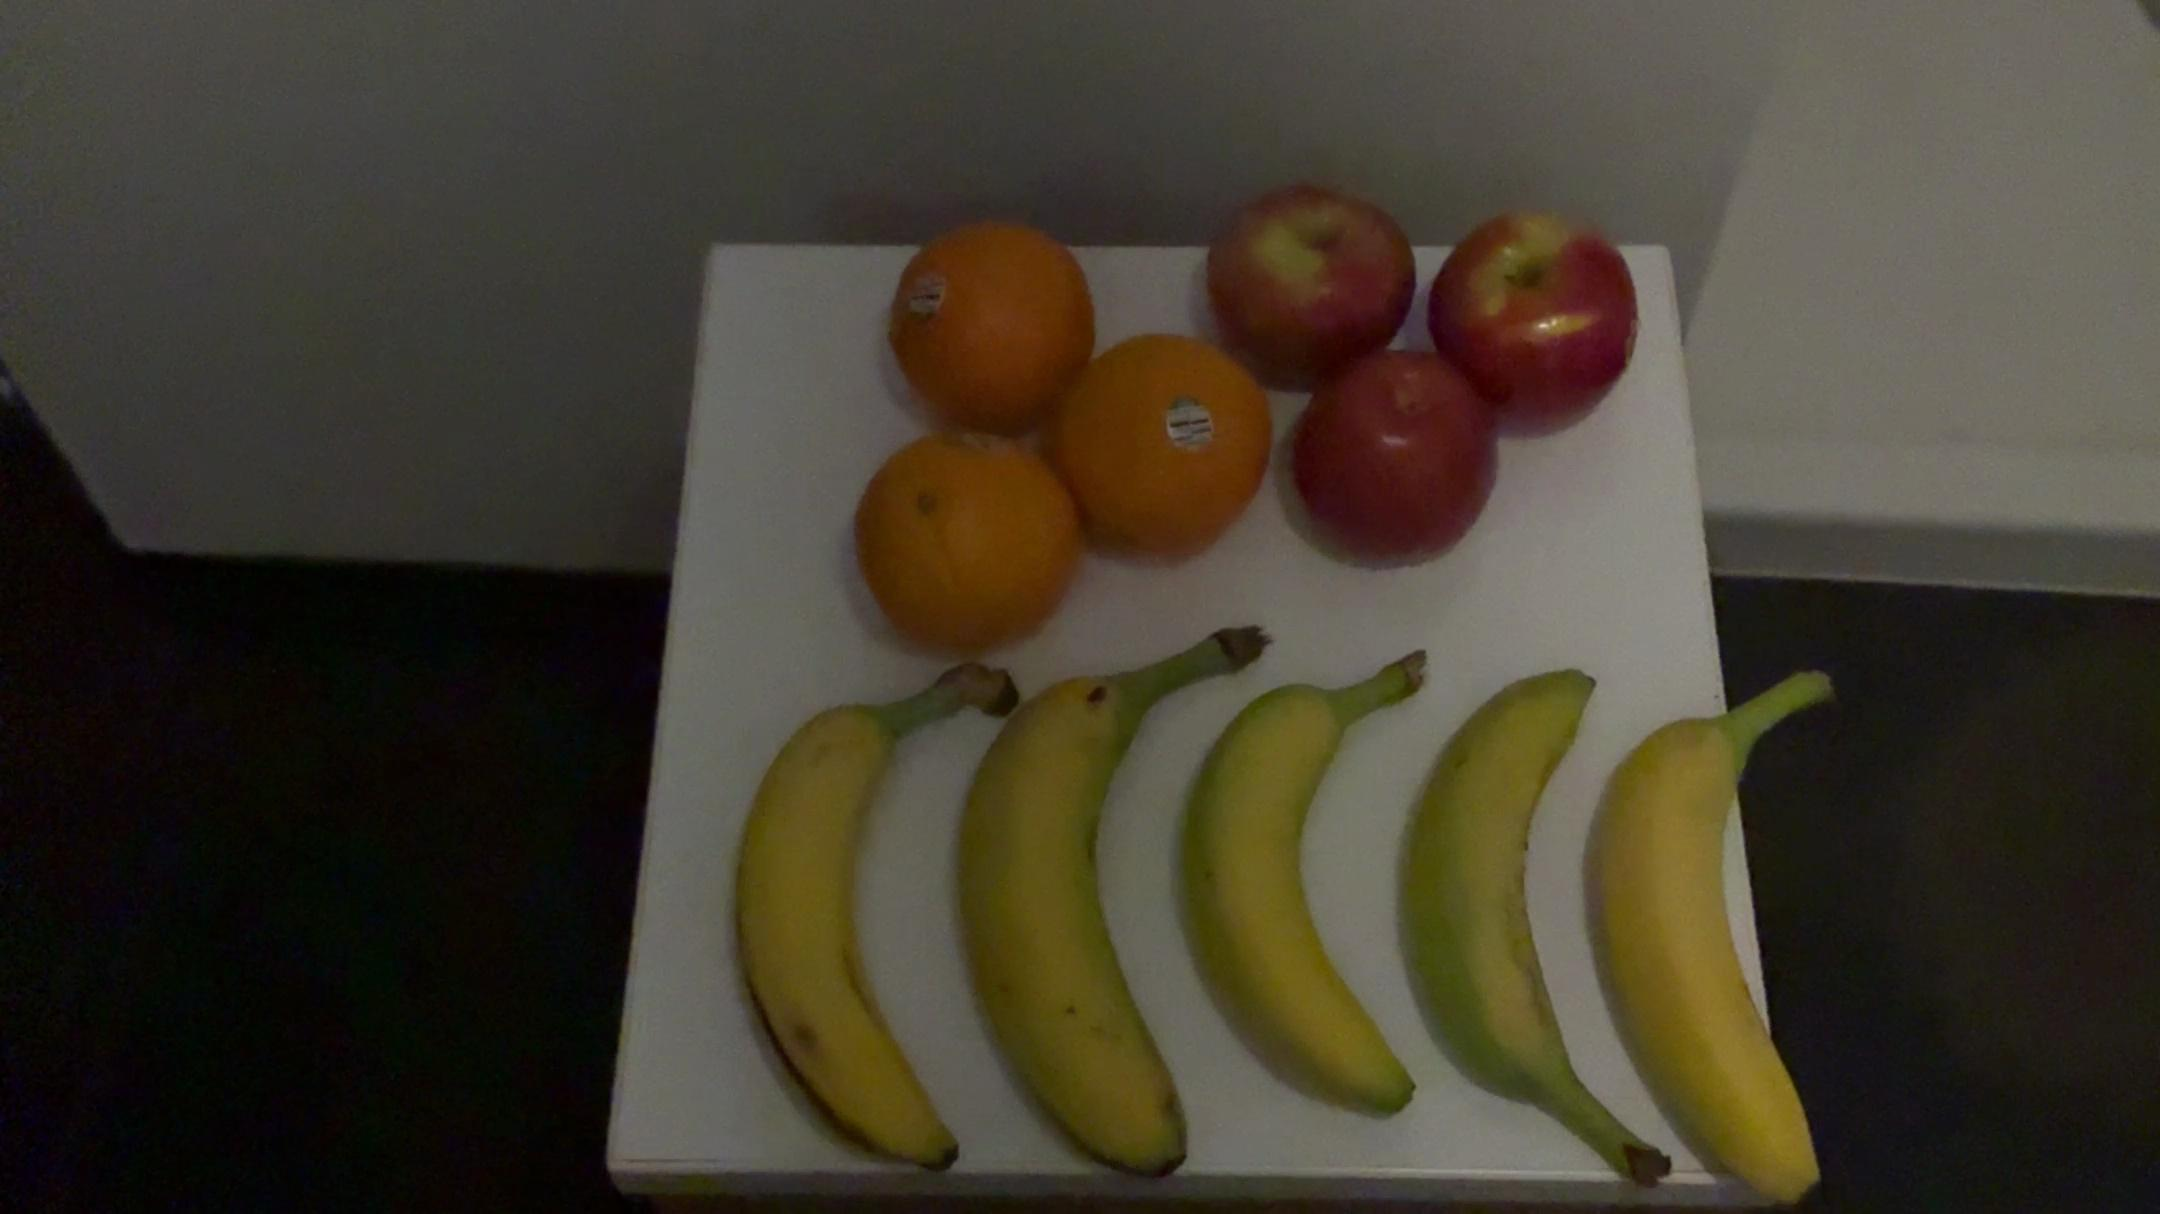apple: (1191, 174, 1423, 404), (1420, 209, 1647, 436), (1288, 359, 1498, 573)
banana: (955, 601, 1274, 1199), (722, 643, 1009, 1196), (1584, 663, 1863, 1214), (1397, 660, 1676, 1196), (1187, 634, 1426, 1129)
orange: (852, 430, 1079, 669), (872, 206, 1101, 439), (1061, 335, 1268, 567)
